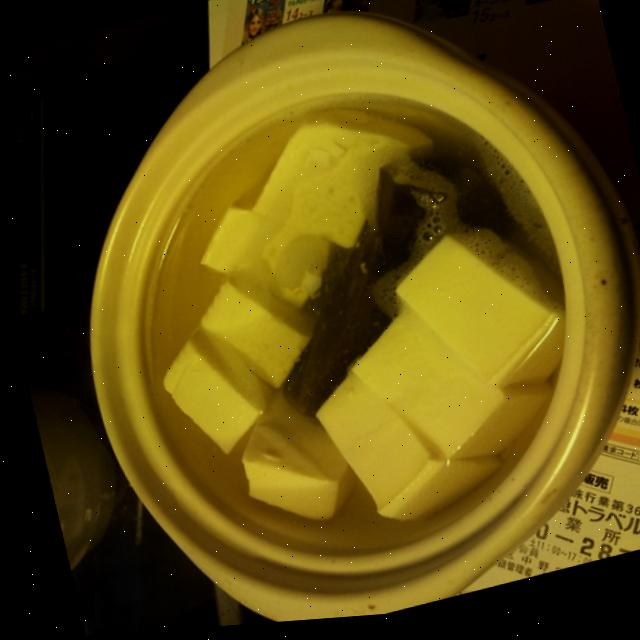豆腐料理: (47, 19, 640, 637)
